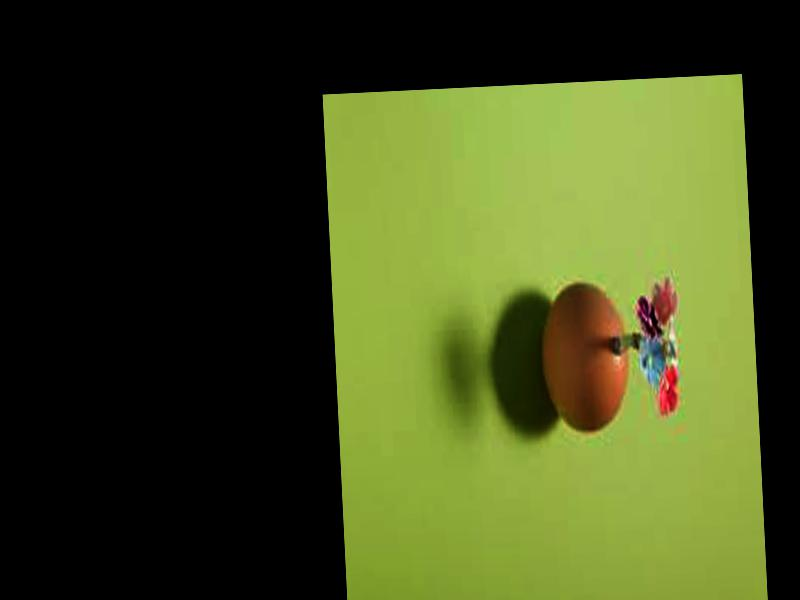Eggs: (538, 281, 630, 432)
